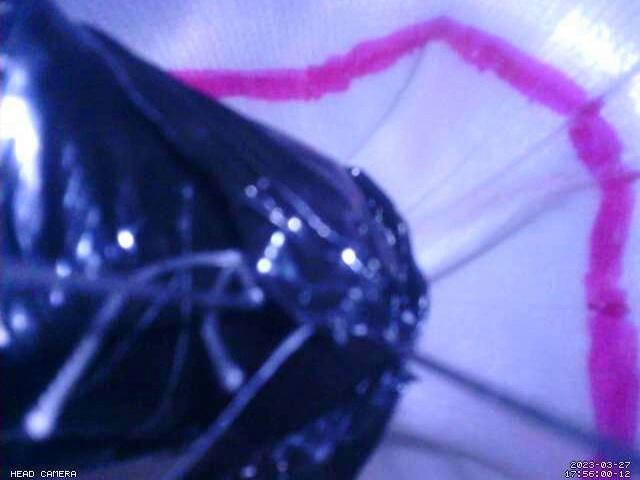red-circle: (168, 14, 640, 479)
